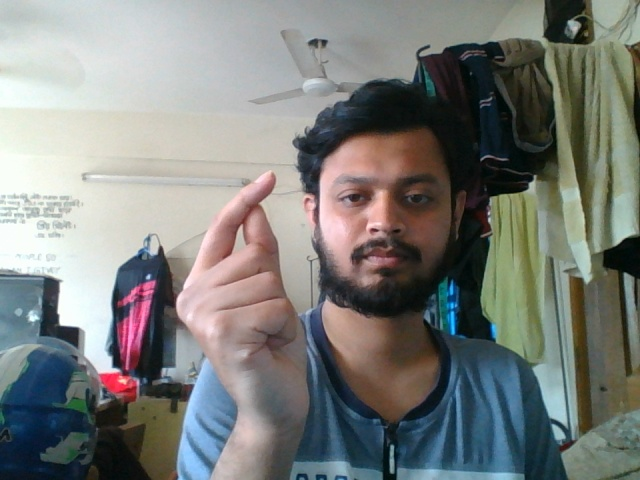tha: (184, 160, 314, 457)
